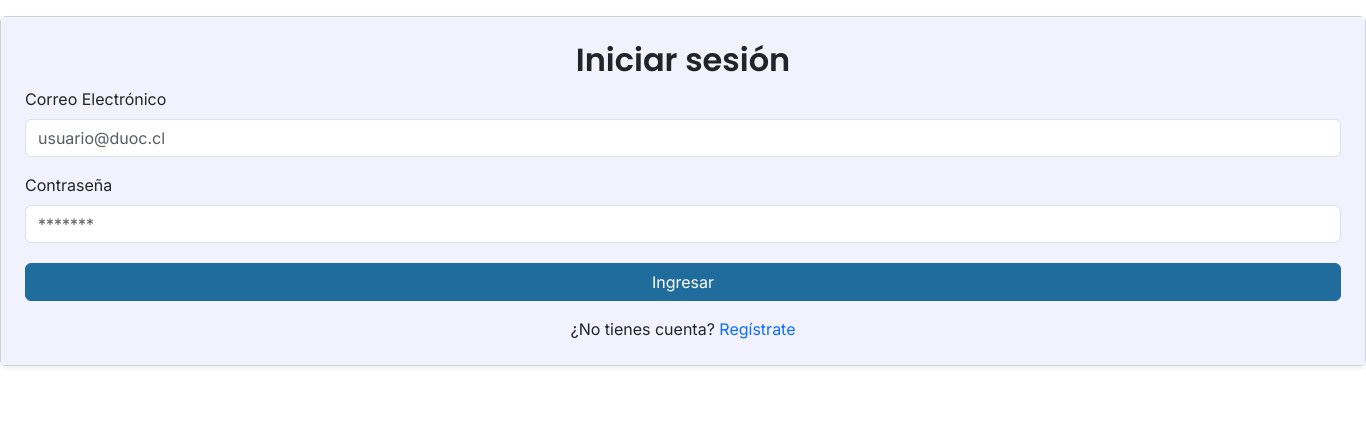
Test: Login › no envía y muestra errores cuando los campos son inválidos
The image size is (1366, 435).
Type "correo@hotmail.com" into the field labelled "Correo Electrónico" at x=683, y=138, box [25, 119, 1341, 157]
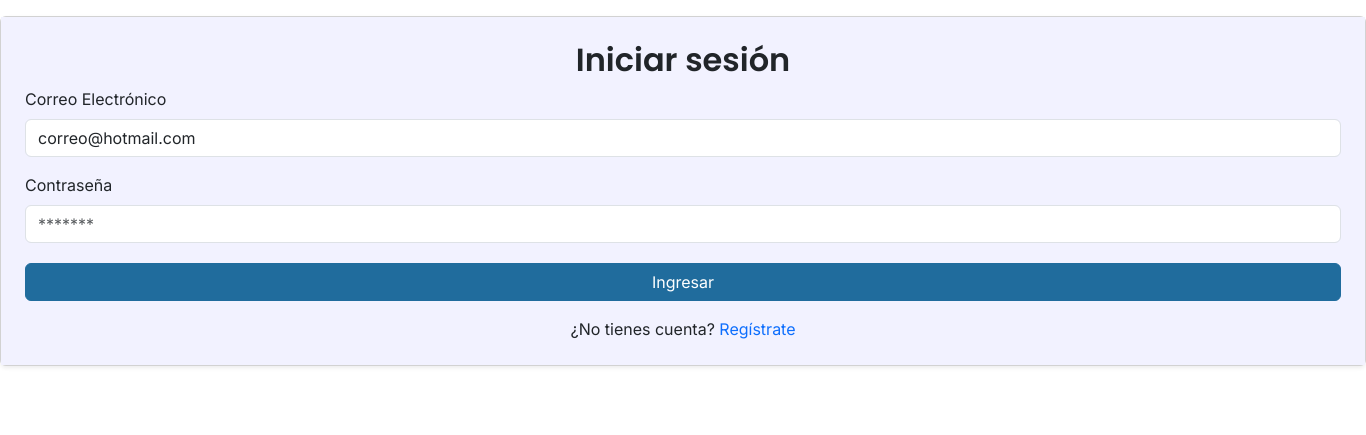
Type "12" into the password field labelled "Contraseña" at x=683, y=224, box [25, 205, 1341, 243]
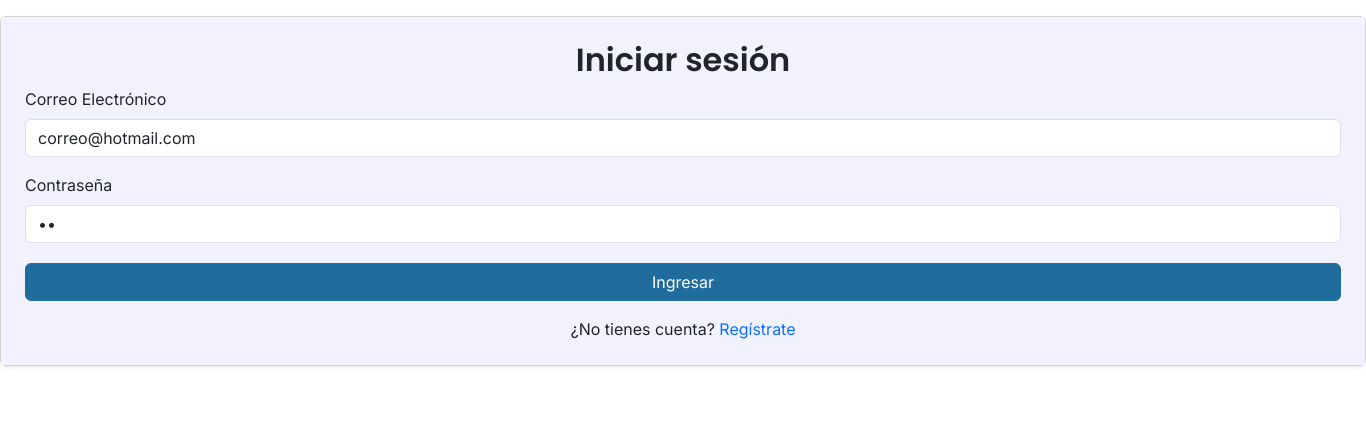
Click the button "Ingresar" at x=683, y=282, box [25, 263, 1341, 301]
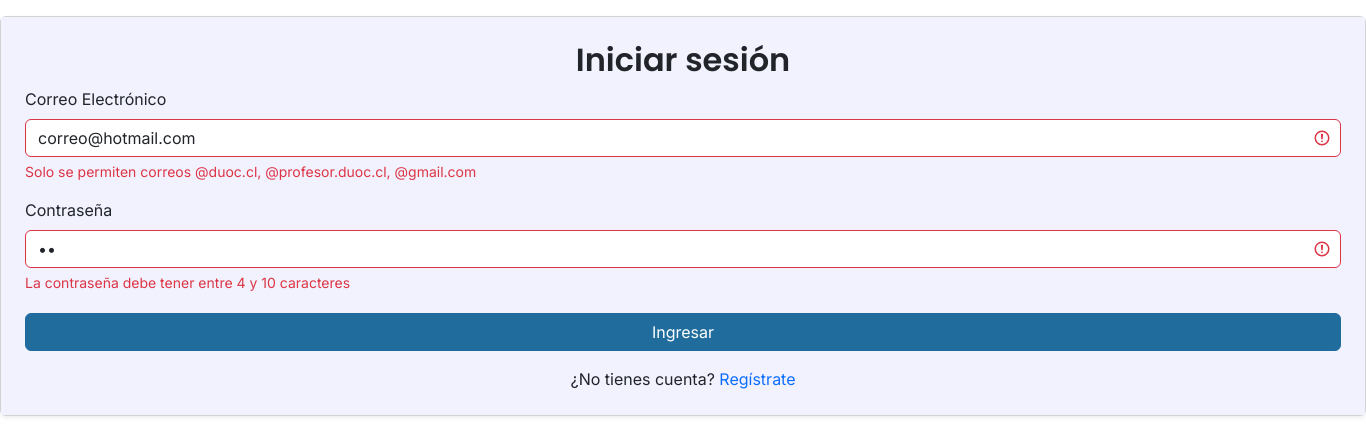
Expected: the text "Solo se permiten correos" is shown, [25, 163, 476, 180]
Expected: the text "La contraseña debe tener entre 4 y 10 caracteres" is shown, [25, 274, 350, 291]
